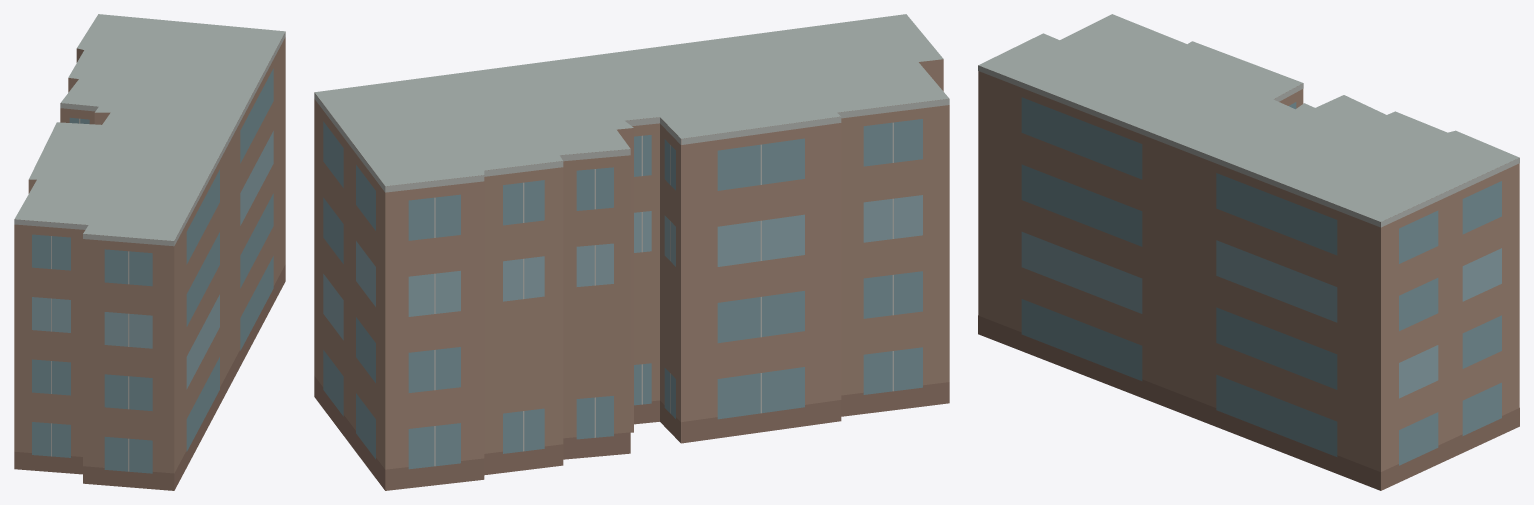
The model's file is survey-upis-32871159.glb.
The picture shows the model from 3 angles, left to right: view 1: azimuth 30°, elevation 25°; view 2: azimuth 150°, elevation 25°; view 3: azimuth 270°, elevation 25°; orthographic projection. The views are drawn at different scales.
Visible parts, largest first — view 1: survey-upis-32871159.tmp; view 2: survey-upis-32871159.tmp; view 3: survey-upis-32871159.tmp.
Part boxes in pixels (x1,y1,x2,y2): survey-upis-32871159.tmp: (14, 14, 285, 490); survey-upis-32871159.tmp: (314, 14, 949, 490); survey-upis-32871159.tmp: (978, 14, 1519, 490).
Bounding box in the file's own units: 19.59 × 11.8 × 21.55.
